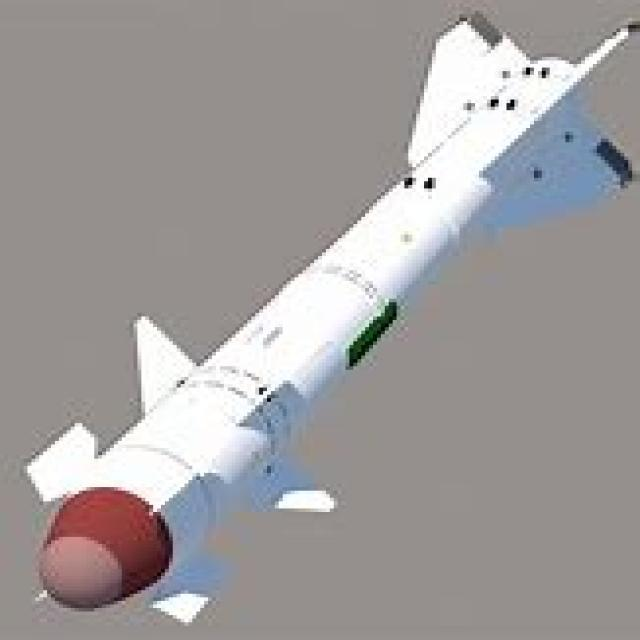missile: (24, 8, 640, 617)
